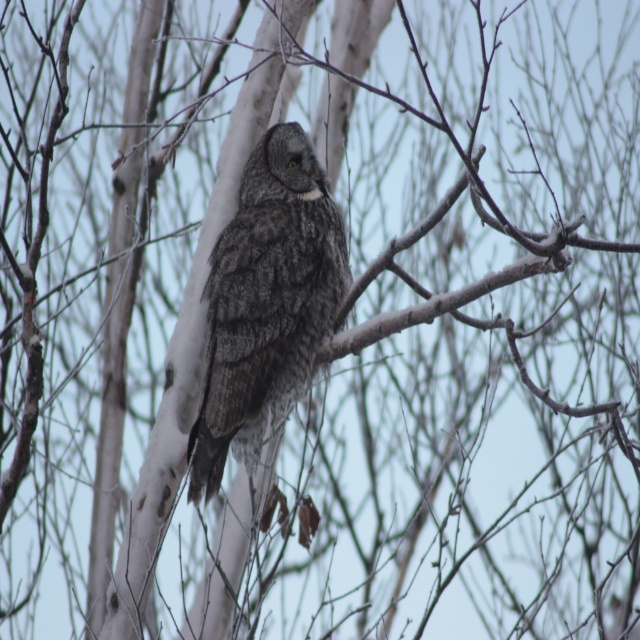Owl: (186, 120, 350, 510)
